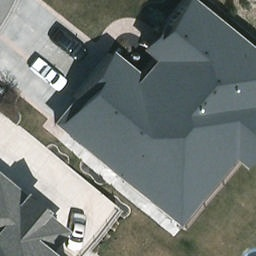car: (46, 25, 91, 62), (31, 56, 69, 90), (63, 211, 86, 253)
